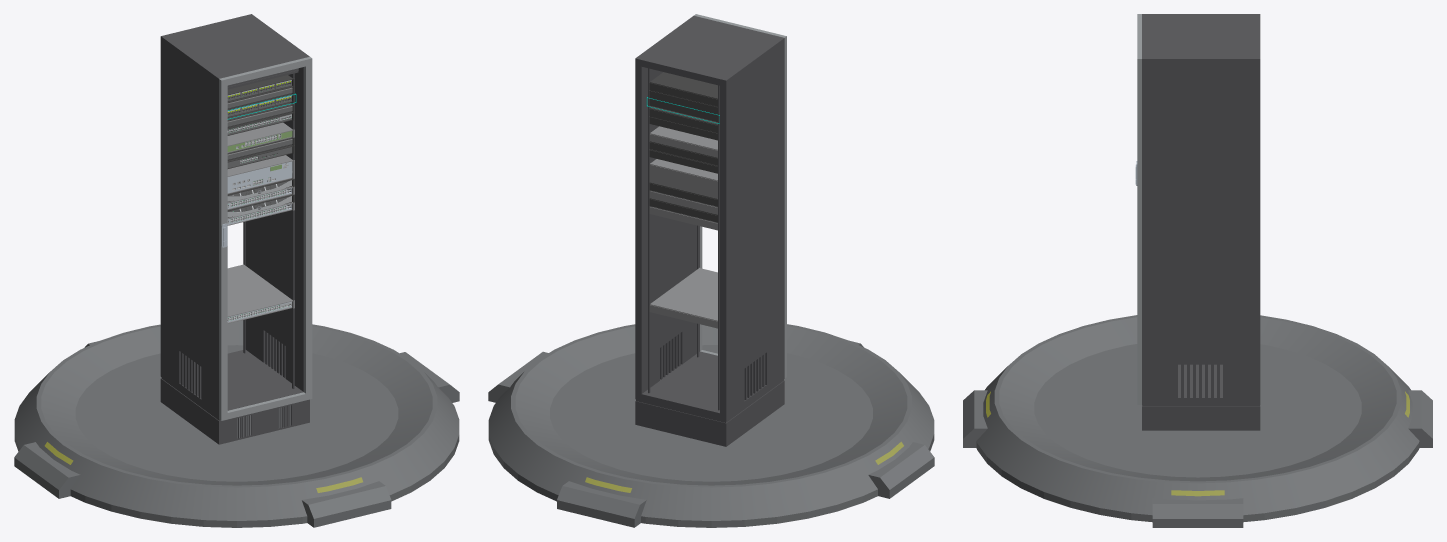
3 views of the same model, side by side, from view 1: azimuth 30°, elevation 25°; view 2: azimuth 150°, elevation 25°; view 3: azimuth 270°, elevation 25° (orthographic).
Visible parts, largest first — view 1: Wyjf_Jg_Steel_Blue_001, JF_dgGuiZi_Gray_001, JF_dgMenKuang_001, JG_A_ChouTi_White_001, JG_A_Steel_Black_001, JG_A_ChouTi_Black_001, JG_A_Steel_White_001, JG_A_Gray_001, JG_A_Steel_Gray_001; view 2: Wyjf_Jg_Steel_Blue_001, JF_dgGuiZi_Gray_001, JG_A_ChouTi_White_001, JG_A_ChouTi_Black_001, JF_dgMenKuang_001, JG_A_03_ChouTi_Black_001; view 3: Wyjf_Jg_Steel_Blue_001, JF_dgGuiZi_Gray_001, JF_dgMenKuang_001.
Part boxes in pixels (<box>): Wyjf_Jg_Steel_Blue_001: <box>14,320,459,527</box>; JF_dgGuiZi_Gray_001: <box>160,14,309,444</box>; JF_dgMenKuang_001: <box>219,57,312,420</box>; JG_A_ChouTi_White_001: <box>227,122,294,323</box>; JG_A_Steel_Black_001: <box>227,80,292,211</box>; JG_A_ChouTi_Black_001: <box>227,75,294,217</box>; JG_A_Steel_White_001: <box>227,80,292,322</box>; JG_A_Gray_001: <box>227,114,291,321</box>; JG_A_Steel_Gray_001: <box>227,180,291,217</box>; Wyjf_Jg_Steel_Blue_001: <box>488,324,934,527</box>; JF_dgGuiZi_Gray_001: <box>635,15,784,446</box>; JG_A_ChouTi_White_001: <box>649,126,717,328</box>; JG_A_ChouTi_Black_001: <box>649,72,717,222</box>; JF_dgMenKuang_001: <box>694,14,786,378</box>; JG_A_03_ChouTi_Black_001: <box>649,98,717,122</box>; Wyjf_Jg_Steel_Blue_001: <box>963,315,1432,527</box>; JF_dgGuiZi_Gray_001: <box>1142,14,1260,430</box>; JF_dgMenKuang_001: <box>1137,14,1141,404</box>.
Size of what is drawn, in the model's own units: 0.0614 by 0.0566 by 0.0614.
